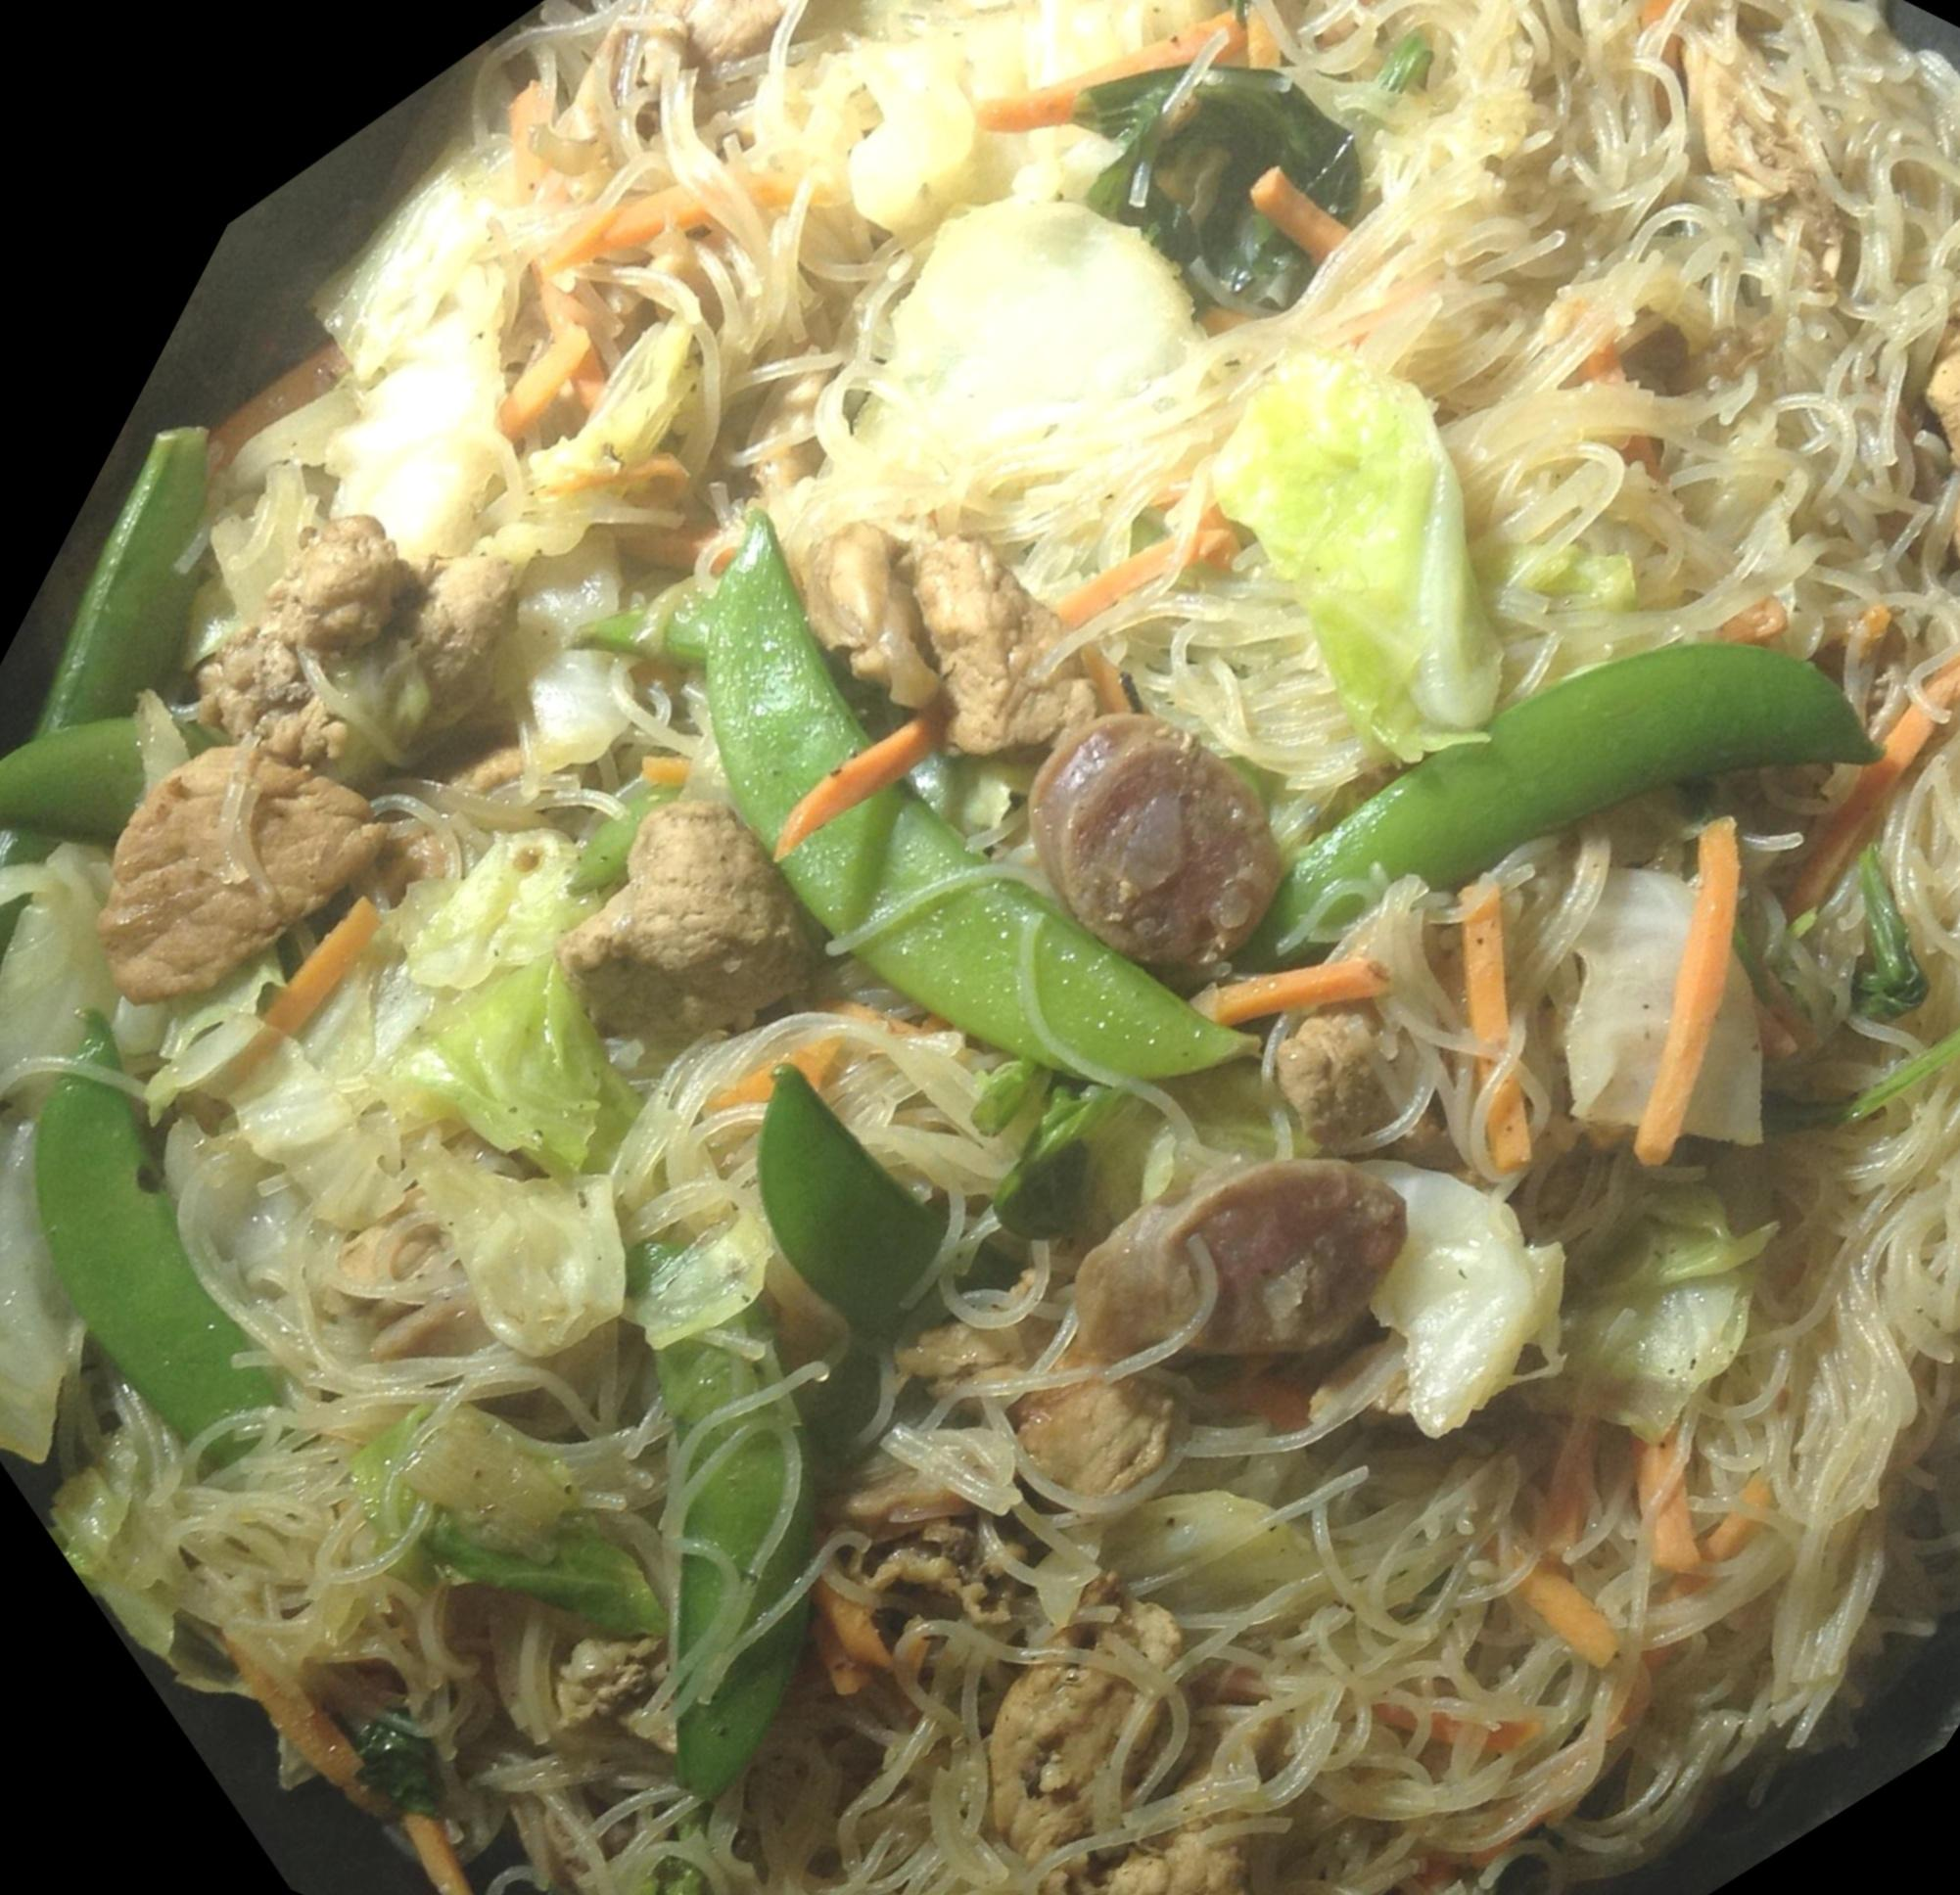pancit bihon: (0, 0, 1959, 1894)
